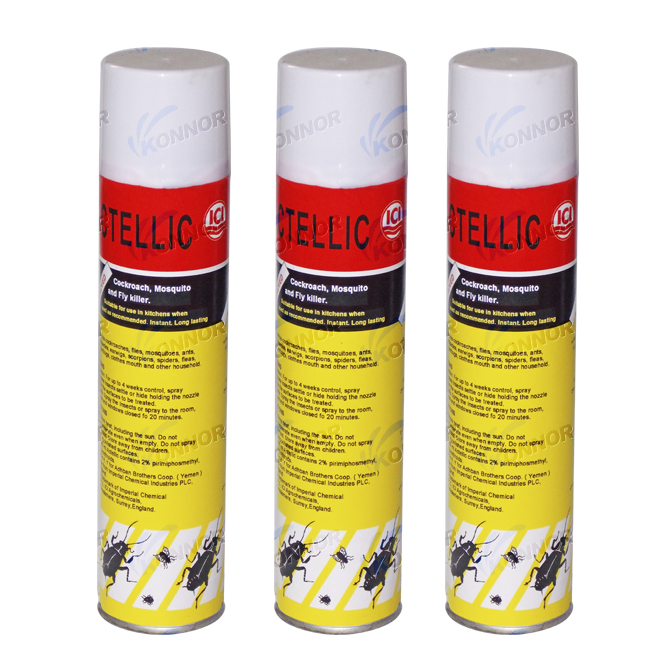Insecticide: (87, 38, 231, 639), (270, 41, 413, 639), (441, 41, 579, 641)
